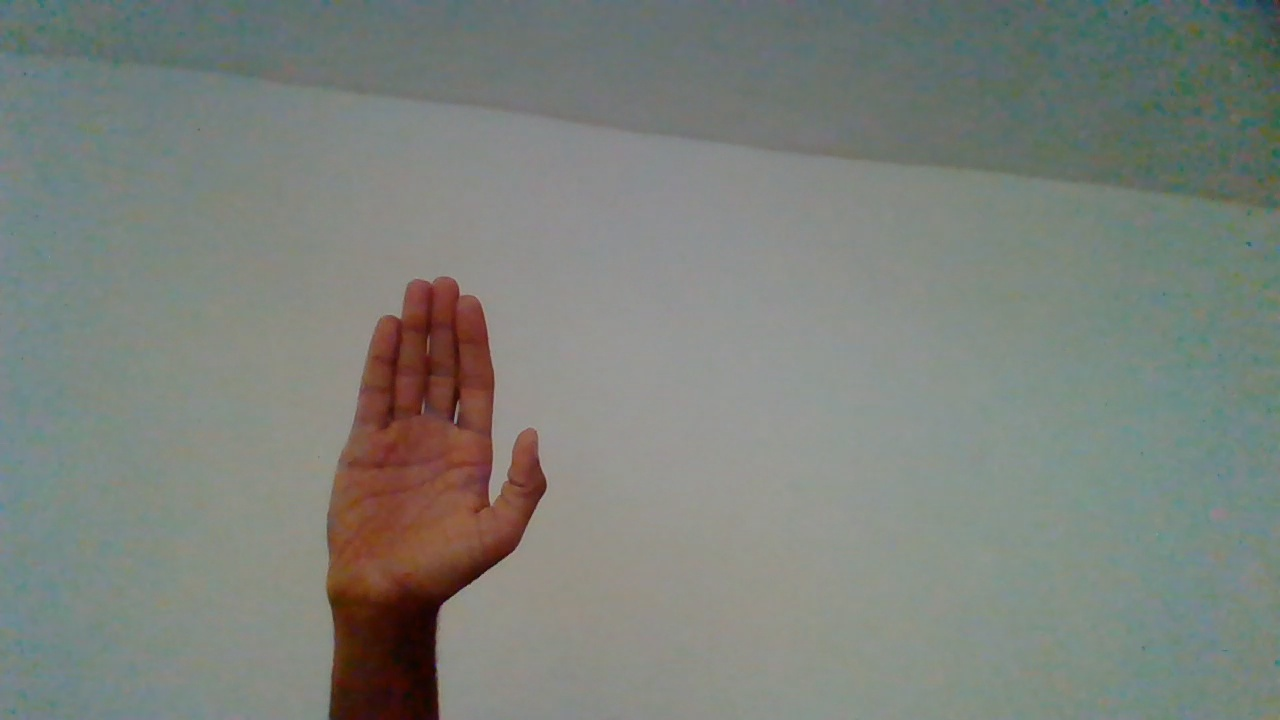ha: (327, 272, 549, 720)
